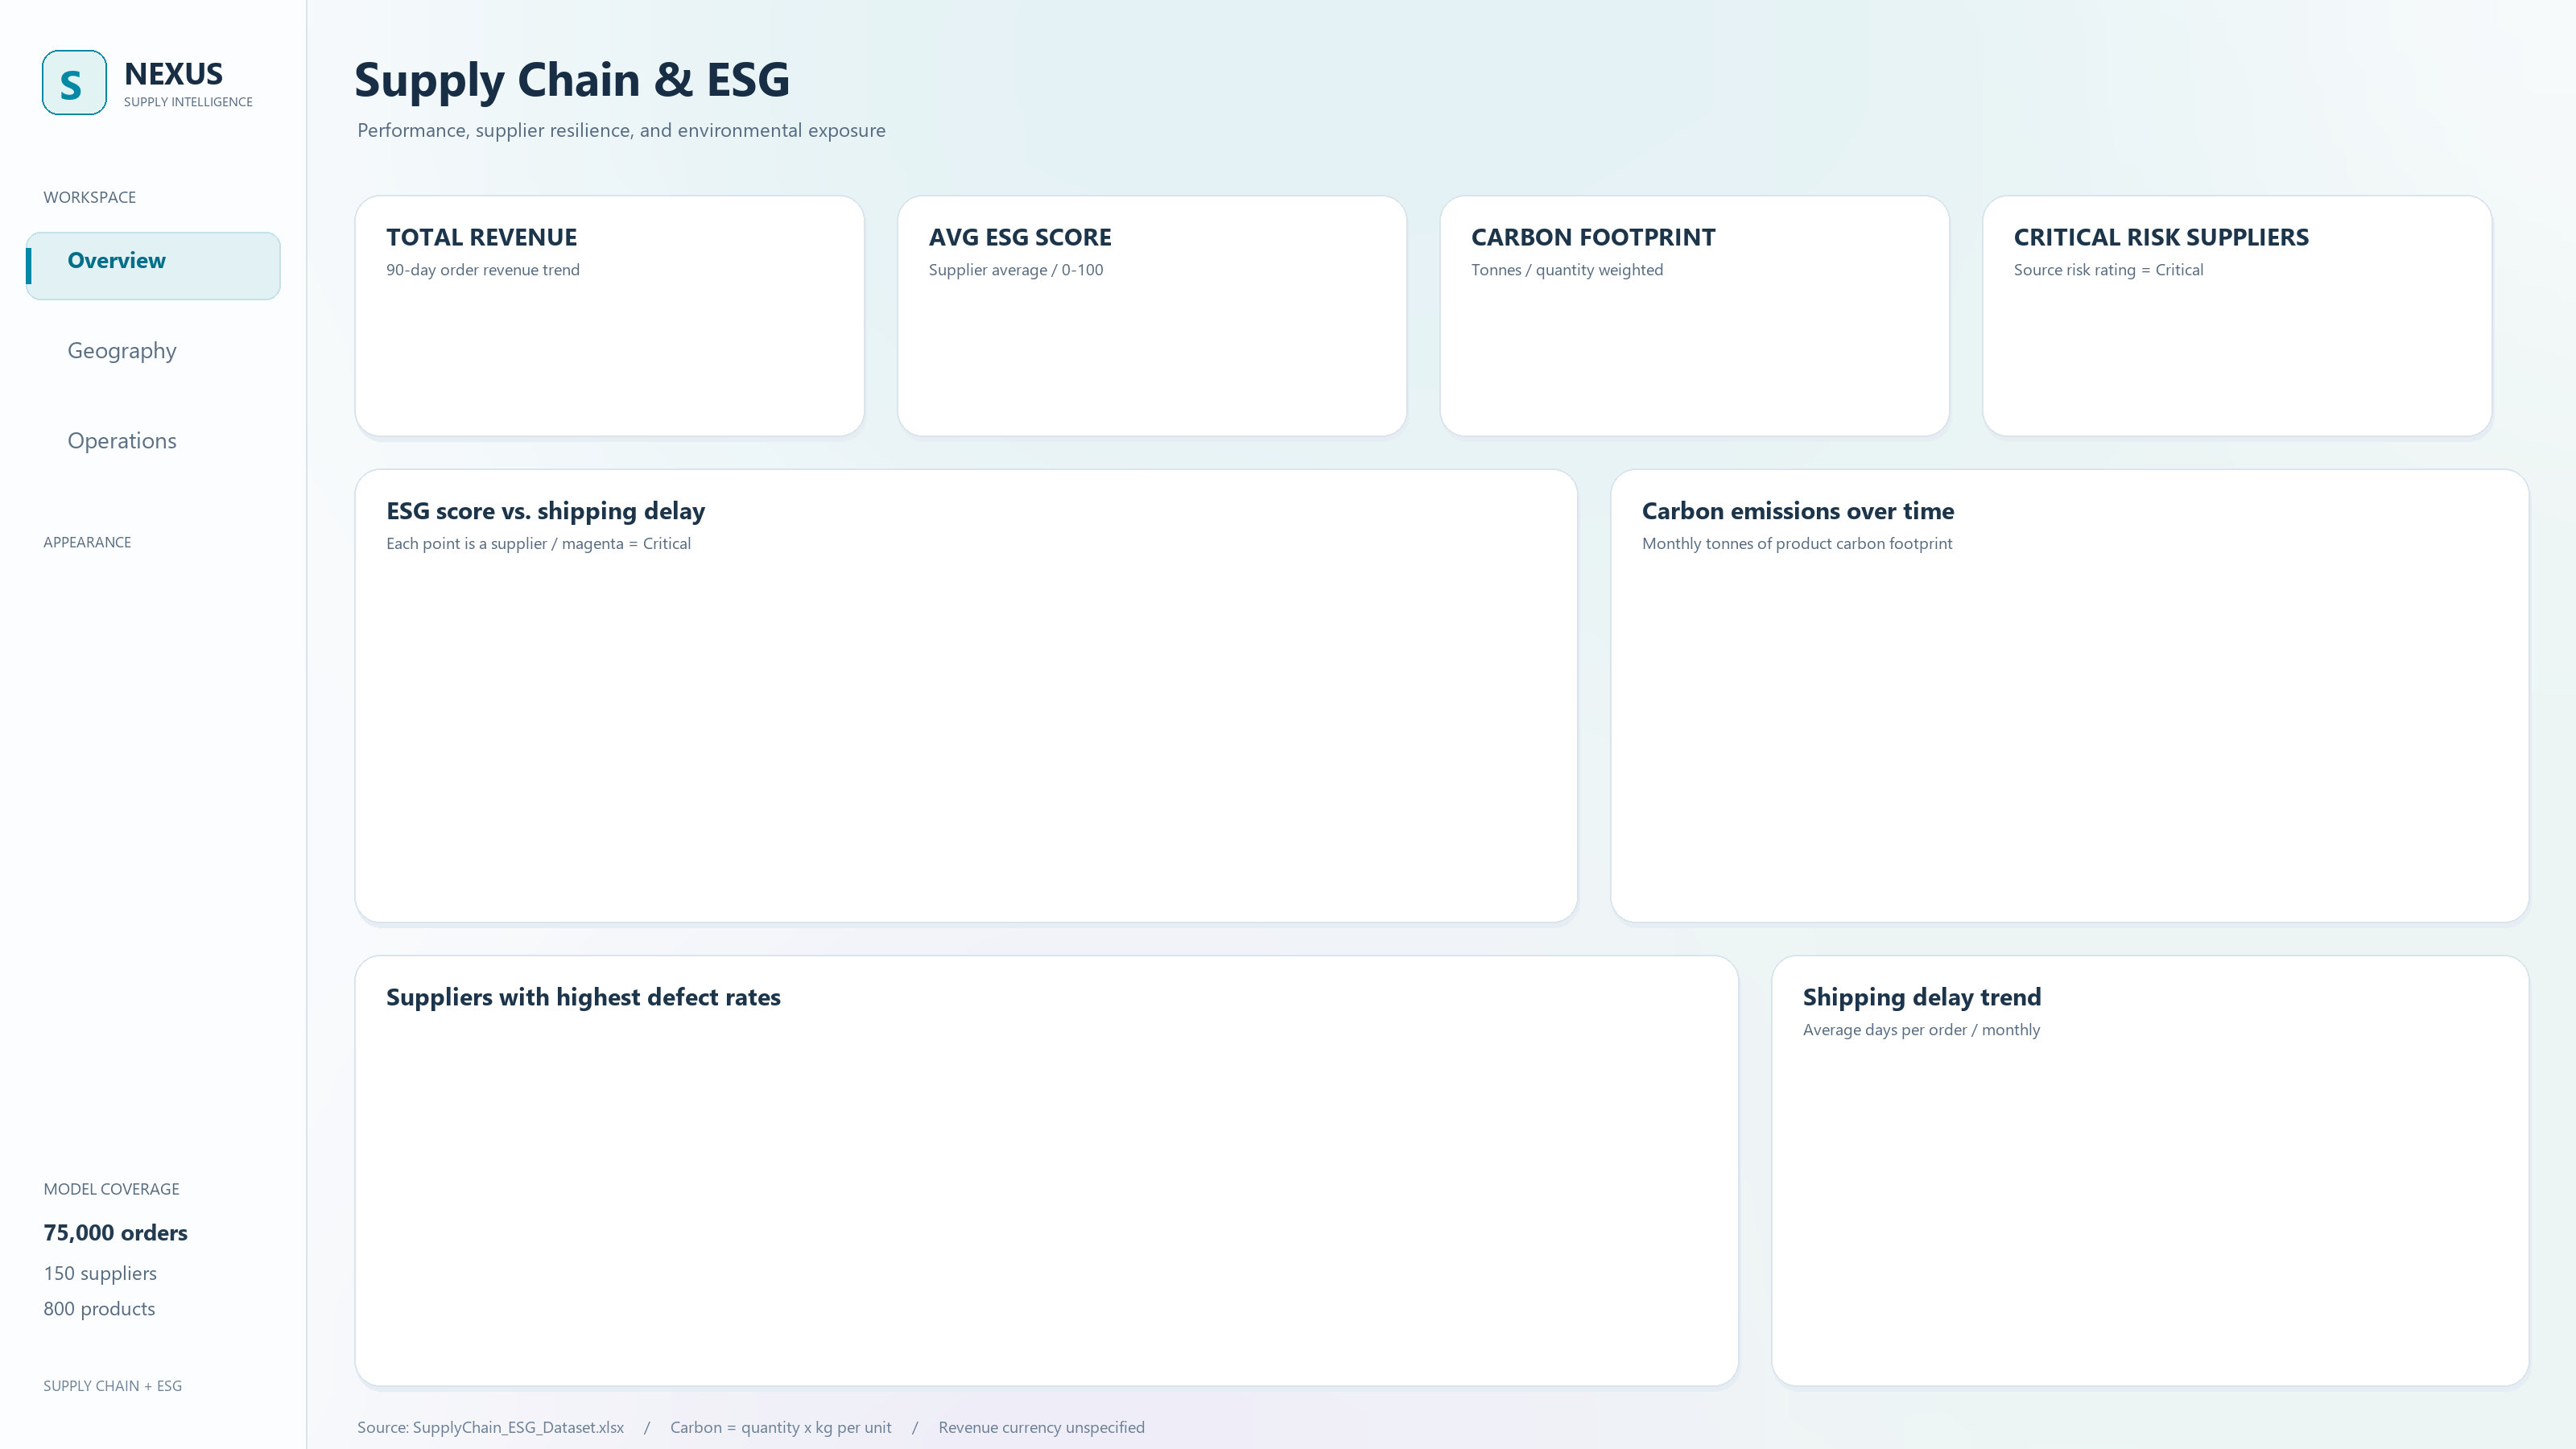

Layout of this report page (visuals, bound fields, positions):
{"tool":"powerbi","page":{"name":"Overview","canvas":[1600,900],"ordinal":0},"visuals":[{"type":"card","fields":{"Values":["Fact_Orders.Total Revenue"]},"box":[235,161,286,63],"z":1},{"type":"tableEx","fields":{"Values":["Calendar.Year","Fact_Orders.KPI Sparkline Light 1"]},"box":[239,219,278,48],"z":2},{"type":"card","fields":{"Values":["Fact_Orders.Avg ESG Score"]},"box":[572,161,286,63],"z":3},{"type":"tableEx","fields":{"Values":["Calendar.Year","Fact_Orders.KPI Sparkline Light 2"]},"box":[576,219,278,48],"z":4},{"type":"card","fields":{"Values":["Fact_Orders.Carbon Footprint t"]},"box":[909,161,286,63],"z":5},{"type":"tableEx","fields":{"Values":["Calendar.Year","Fact_Orders.KPI Sparkline Light 3"]},"box":[913,219,278,48],"z":6},{"type":"card","fields":{"Values":["Fact_Orders.Critical Risk Suppliers"]},"box":[1246,161,286,63],"z":7},{"type":"tableEx","fields":{"Values":["Calendar.Year","Fact_Orders.KPI Sparkline Light 4"]},"box":[1250,219,278,48],"z":8},{"type":"scatterChart","fields":{"Category":["Dim_Suppliers.SupplierName"],"Series":["Dim_Suppliers.Risk_Rating"],"Size":["Fact_Orders.Total Revenue"],"X":["Fact_Orders.ESG Score"],"Y":["Fact_Orders.Avg Shipping Delay"]},"box":[237,349,725,208],"z":9},{"type":"areaChart","fields":{"Category":["Calendar.MonthStart"],"Y":["Fact_Orders.Carbon Footprint t"]},"box":[1014,349,543,208],"z":10},{"type":"tableEx","fields":{"Values":["Dim_Suppliers.SupplierID","Dim_Suppliers.SupplierName","Dim_Suppliers.Country","Dim_Suppliers.Risk_Rating","Fact_Orders.ESG Score","Fact_Orders.Weighted Defect Rate","Fact_Orders.Avg Shipping Delay"]},"box":[237,637,826,214],"z":11},{"type":"areaChart","fields":{"Category":["Calendar.MonthStart"],"Y":["Fact_Orders.Avg Shipping Delay"]},"box":[1115,652,442,198],"z":12},{"type":"slicer","fields":{"Values":["Calendar.Year"]},"box":[1130,27,120,65],"z":13},{"type":"slicer","fields":{"Values":["Dim_Suppliers.Country"]},"box":[1260,27,150,65],"z":14},{"type":"slicer","fields":{"Values":["Dim_Suppliers.Risk_Rating"]},"box":[1420,27,150,65],"z":15},{"type":"actionButton","box":[16,144,158,42],"z":100},{"type":"actionButton","box":[16,200,158,42],"z":101},{"type":"actionButton","box":[16,256,158,42],"z":102},{"type":"actionButton","box":[26,350,67,32],"z":2000},{"type":"actionButton","box":[97,350,67,32],"z":2001}]}

Visuals, with their boxes on the page's 1600x900 design canvas (x1, y1, x2, y2). These are canvas units, not pixel positions in the 2576x1449 screenshot, which may show the page scaled, cropped or inside an application window:
card - Fact_Orders.Total Revenue: l=235, t=161, r=521, b=224
tableEx - Calendar.Year x Fact_Orders.KPI Sparkline Light 1: l=239, t=219, r=517, b=267
card - Fact_Orders.Avg ESG Score: l=572, t=161, r=858, b=224
tableEx - Calendar.Year x Fact_Orders.KPI Sparkline Light 2: l=576, t=219, r=854, b=267
card - Fact_Orders.Carbon Footprint t: l=909, t=161, r=1195, b=224
tableEx - Calendar.Year x Fact_Orders.KPI Sparkline Light 3: l=913, t=219, r=1191, b=267
card - Fact_Orders.Critical Risk Suppliers: l=1246, t=161, r=1532, b=224
tableEx - Calendar.Year x Fact_Orders.KPI Sparkline Light 4: l=1250, t=219, r=1528, b=267
scatterChart - Dim_Suppliers.SupplierName x Dim_Suppliers.Risk_Rating: l=237, t=349, r=962, b=557
areaChart - Calendar.MonthStart x Fact_Orders.Carbon Footprint t: l=1014, t=349, r=1557, b=557
tableEx - Dim_Suppliers.SupplierID x Dim_Suppliers.SupplierName: l=237, t=637, r=1063, b=851
areaChart - Calendar.MonthStart x Fact_Orders.Avg Shipping Delay: l=1115, t=652, r=1557, b=850
slicer - Calendar.Year: l=1130, t=27, r=1250, b=92
slicer - Dim_Suppliers.Country: l=1260, t=27, r=1410, b=92
slicer - Dim_Suppliers.Risk_Rating: l=1420, t=27, r=1570, b=92
actionButton: l=16, t=144, r=174, b=186
actionButton: l=16, t=200, r=174, b=242
actionButton: l=16, t=256, r=174, b=298
actionButton: l=26, t=350, r=93, b=382
actionButton: l=97, t=350, r=164, b=382
